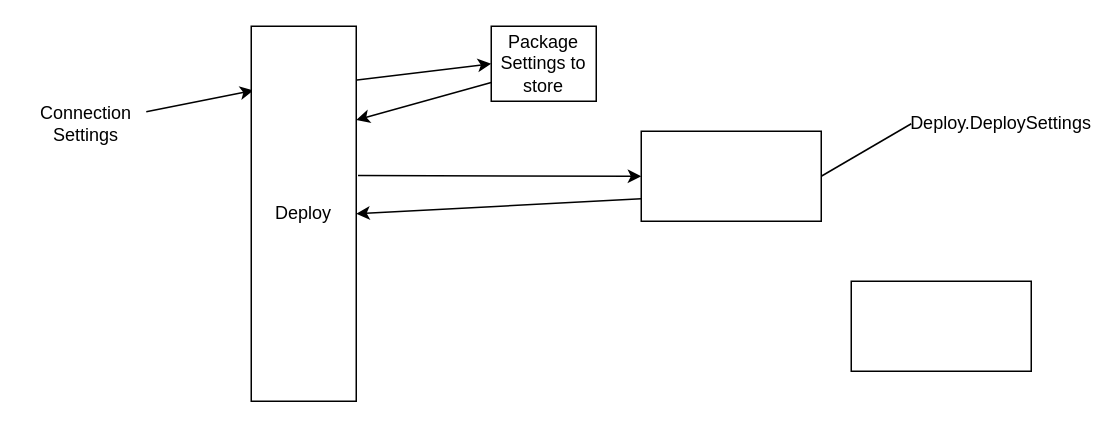
This 1118x428 diagram has some shape labels left out. Each missing label, with the centre of its shape:
"Get current settings" belongs at point (730, 175).
"Should deploy" belongs at point (940, 325).
